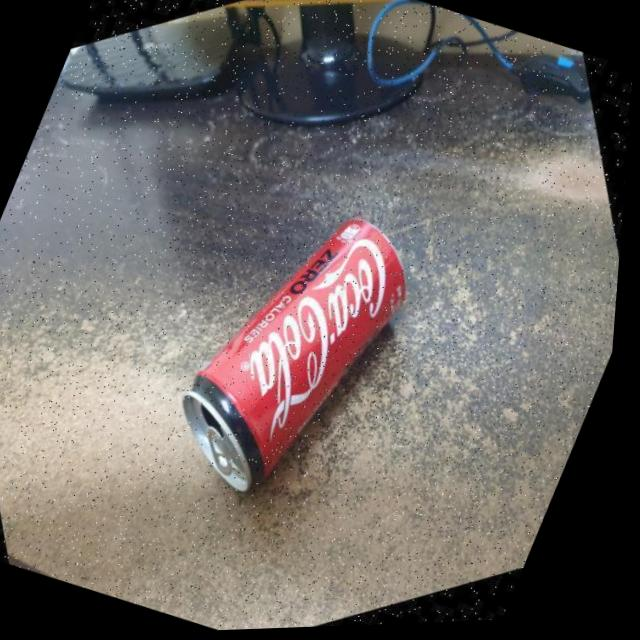metal: (183, 218, 404, 491)
